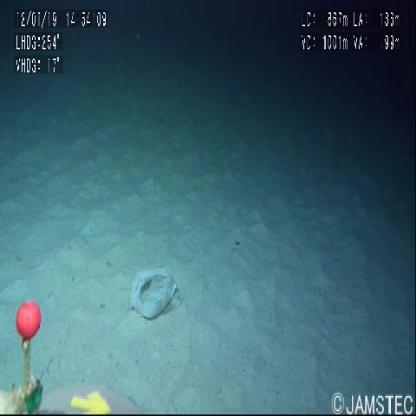Rác: (129, 267, 177, 321)
